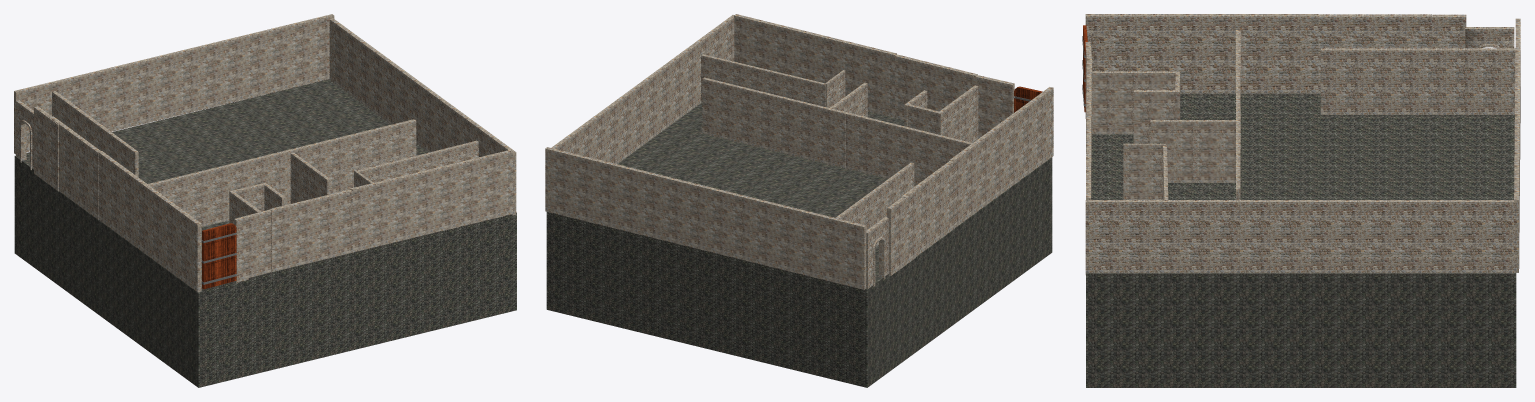
Rendered from map2.obj.
The picture shows the model from 3 angles, left to right: view 1: azimuth 30°, elevation 25°; view 2: azimuth 150°, elevation 25°; view 3: azimuth 270°, elevation 25°; orthographic projection. The views are drawn at different scales.
Visible parts, largest first — view 1: FloorBox, Box001.001, Box001.005, Box001.008, Box001.002, Box001.006, Box001.012, Box001.009, Box001.003, Box001.011, Box001.007, DoorLeft (+7 smaller); view 2: FloorBox, Box001.001, Box001.008, Box001.012, Box001.005, Box001.002, Box001.009, Box001.006, Box001.010, Box001.003, Box001.011, Box001.004 (+7 smaller); view 3: FloorBox, Box001.008, Box001.002, Box001.011, Box001.003, Box001.015, Box001.013, Box001.019, Box001.014, Box001.018, Box001.001, Box001.004 (+5 smaller).
Part boxes in pixels (x1,y1,x2,y2): FloorBox: [14, 79, 516, 387]; Box001.001: [14, 14, 334, 154]; Box001.005: [350, 150, 512, 252]; Box001.008: [329, 18, 516, 215]; Box001.002: [98, 151, 201, 292]; Box001.006: [269, 189, 352, 271]; Box001.012: [277, 119, 416, 204]; Box001.009: [148, 152, 278, 226]; Box001.003: [49, 116, 100, 220]; Box001.011: [52, 91, 138, 177]; Box001.007: [234, 209, 271, 282]; DoorLeft: [201, 223, 237, 289]; FloorBox: [546, 103, 1052, 387]; Box001.001: [545, 147, 866, 289]; Box001.008: [551, 15, 734, 163]; Box001.012: [702, 77, 845, 168]; Box001.005: [734, 14, 896, 117]; Box001.002: [949, 87, 1053, 227]; Box001.009: [841, 111, 972, 185]; Box001.006: [895, 54, 977, 119]; Box001.010: [701, 54, 825, 106]; Box001.003: [901, 161, 954, 256]; Box001.011: [835, 162, 914, 246]; Box001.004: [887, 191, 915, 275]; FloorBox: [1086, 93, 1516, 387]; Box001.008: [1085, 200, 1514, 274]; Box001.002: [1085, 14, 1318, 93]; Box001.011: [1320, 48, 1515, 114]; Box001.003: [1318, 14, 1431, 93]; Box001.015: [1092, 71, 1137, 134]; Box001.013: [1193, 120, 1235, 182]; Box001.019: [1123, 143, 1166, 199]; Box001.014: [1150, 120, 1196, 182]; Box001.018: [1133, 90, 1179, 143]; Box001.001: [1514, 18, 1520, 272]; Box001.004: [1432, 14, 1466, 48].
Size of the model in its own units: 516 by 252 by 522.
